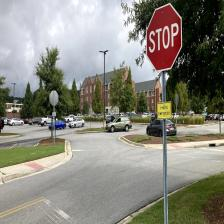Stop-sign: (145, 0, 184, 77)
